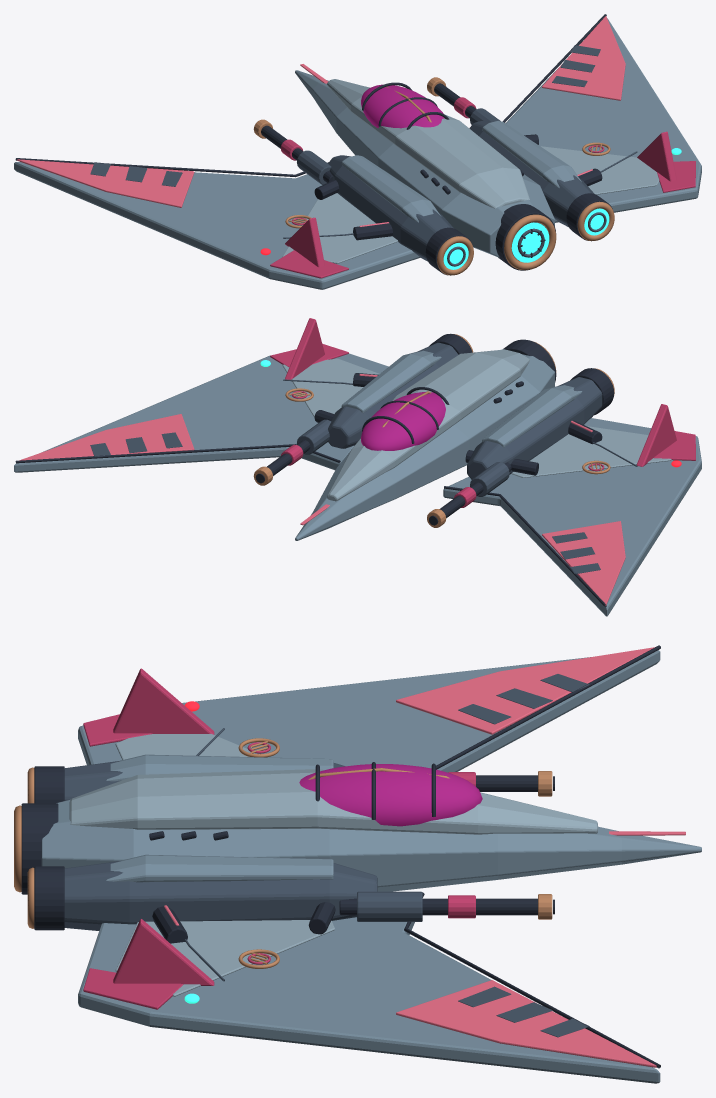
Rendered from skyjet.glb.
The picture shows the model from 3 angles, top to bottom: view 1: azimuth 30°, elevation 25°; view 2: azimuth 150°, elevation 25°; view 3: azimuth 270°, elevation 25°; orthographic projection. The views are drawn at different scales.
Parts seen in each view (by area): view 1: Wing.L | swept primary plane, Wing.R | swept primary plane, Fuselage | monocoque, Dorsal armor | raised spine, Nacelle.L | armored engine, Wing.L | crimson spear tip, Wing.R | crimson spear tip, Wing.L | inset armor, Wing.R | inset armor, Cockpit | violet canopy, Nacelle.L | upper shell, Nacelle.R | upper shell (+18 smaller); view 2: Wing.L | swept primary plane, Wing.R | swept primary plane, Fuselage | monocoque, Dorsal armor | raised spine, Nacelle.L | armored engine, Wing.L | inset armor, Cockpit | violet canopy, Wing.L | crimson spear tip, Wing.R | crimson spear tip, Wing.R | inset armor, Nacelle.R | armored engine, Nacelle.R | upper shell (+11 smaller); view 3: Wing.R | swept primary plane, Fuselage | monocoque, Wing.L | swept primary plane, Dorsal armor | raised spine, Nacelle.R | armored engine, Cockpit | violet canopy, Wing.R | crimson spear tip, Wing.L | crimson spear tip, Wing.R | inset armor, Nacelle.R | upper shell, Fin.R | crimson stabilizer, Nacelle.L | upper shell (+16 smaller).
Part boxes in pixels (x1,y1,x2,y2): Wing.L | swept primary plane: (14,162,420,289); Wing.R | swept primary plane: (505,18,701,222); Fuselage | monocoque: (295,70,554,257); Dorsal armor | raised spine: (327,79,529,208); Nacelle.L | armored engine: (328,155,453,261); Wing.L | crimson spear tip: (17,159,194,207); Wing.R | crimson spear tip: (542,16,625,100); Wing.L | inset armor: (282,193,398,263); Wing.R | inset armor: (541,146,659,194); Cockpit | violet canopy: (361,84,444,128); Nacelle.L | upper shell: (341,155,441,222); Nacelle.R | upper shell: (482,121,581,188); Wing.L | swept primary plane: (443,418,701,616); Wing.R | swept primary plane: (14,353,388,472); Fuselage | monocoque: (295,349,554,540); Dorsal armor | raised spine: (327,349,529,501); Nacelle.L | armored engine: (467,377,602,479); Wing.L | inset armor: (511,426,671,477); Cockpit | violet canopy: (361,392,445,450); Wing.L | crimson spear tip: (542,521,625,605); Wing.R | crimson spear tip: (19,414,194,460); Wing.R | inset armor: (282,358,379,417); Nacelle.R | armored engine: (328,342,458,448); Nacelle.R | upper shell: (341,350,441,413); Wing.R | swept primary plane: (78,917,660,1083); Fuselage | monocoque: (41,799,701,891); Wing.L | swept primary plane: (78,650,660,772); Dorsal armor | raised spine: (69,769,597,834); Nacelle.R | armored engine: (64,861,377,930); Cockpit | violet canopy: (299,764,482,826); Wing.R | crimson spear tip: (396,980,656,1067); Wing.L | crimson spear tip: (396,647,654,734); Wing.R | inset armor: (115,920,334,996); Nacelle.R | upper shell: (106,854,333,882); Fin.R | crimson stabilizer: (113,919,214,985); Nacelle.L | upper shell: (106,754,333,781).
Size of the model in its own units: 12.48 by 1.68 by 8.59.
